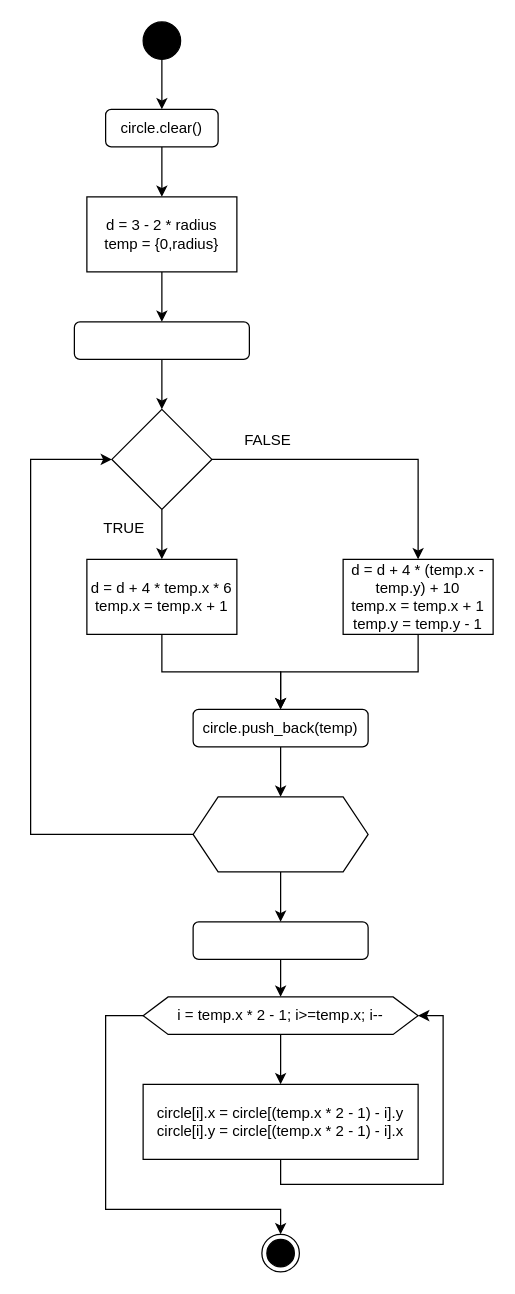
Some shapes in this 515 by 1294 pixel diagram are drawn without their labels. Here are the shapes that lost their labels. From the top down, the centre of each, then its label:
At pixel 161 340: "circle.push_back (temp)".
At pixel 161 458: "d < 0".
At pixel 280 834: "temp.x == temp.y || temp.x < temp.y".
At pixel 280 940: "circle.resize(temp.x * 2)".
